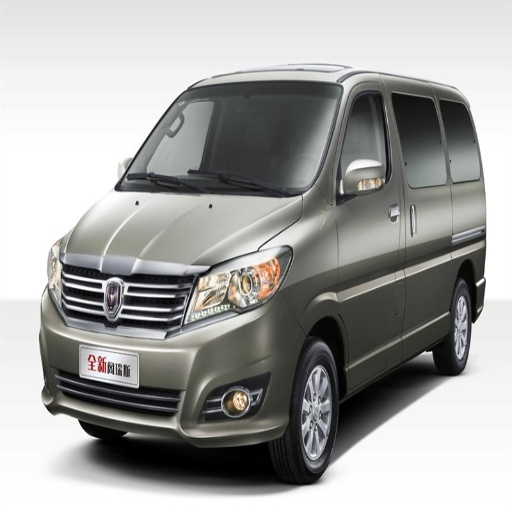front_bumper: (40, 271, 304, 446)
front_glass: (115, 81, 341, 195)
front_left_door: (334, 84, 404, 368)
